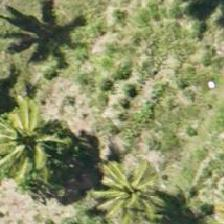coconut_tree: (0, 96, 78, 186), (76, 146, 166, 223)
